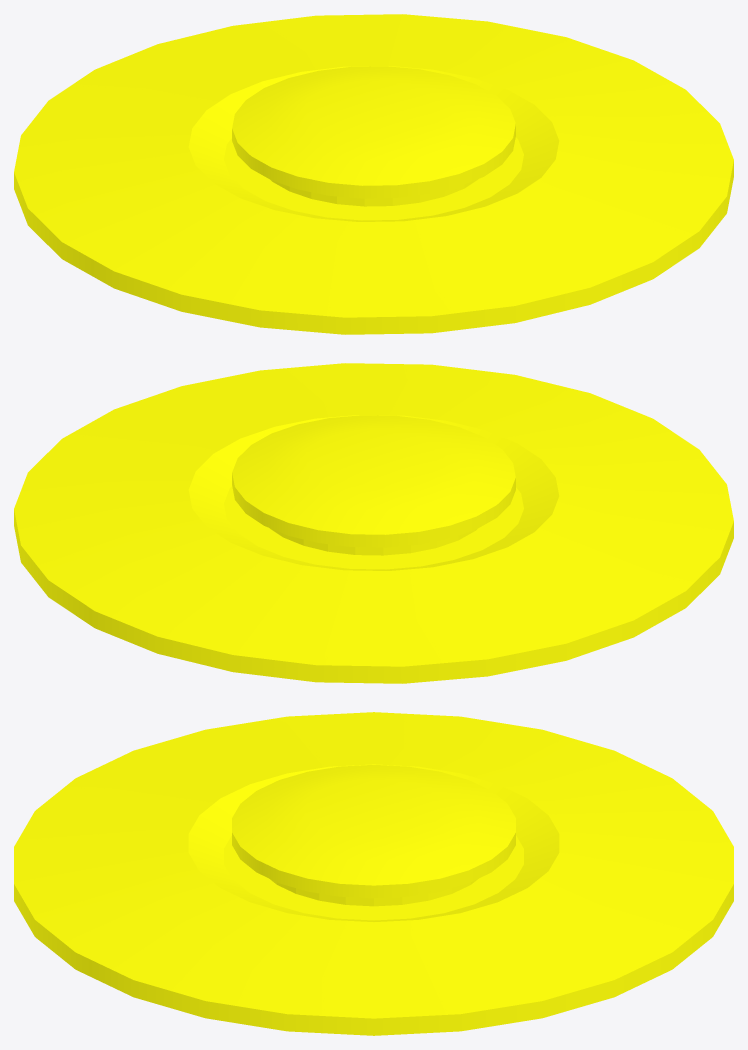
Rendered from SM_FireSprinkler01.glb.
3 views of the same model, one above another, from view 1: azimuth 30°, elevation 25°; view 2: azimuth 150°, elevation 25°; view 3: azimuth 270°, elevation 25° (orthographic).
Parts seen in each view (by area): view 1: SM_FireSprinkler01; view 2: SM_FireSprinkler01; view 3: SM_FireSprinkler01.
Boxes of the visible parts, x1=… form: SM_FireSprinkler01: x1=14, y1=14, x2=733, y2=334; SM_FireSprinkler01: x1=14, y1=363, x2=733, y2=683; SM_FireSprinkler01: x1=14, y1=712, x2=733, y2=1035.
Size of what is drawn, in the model's own units: 0.206 by 0.023 by 0.2045.
1 material, 1 textured.
